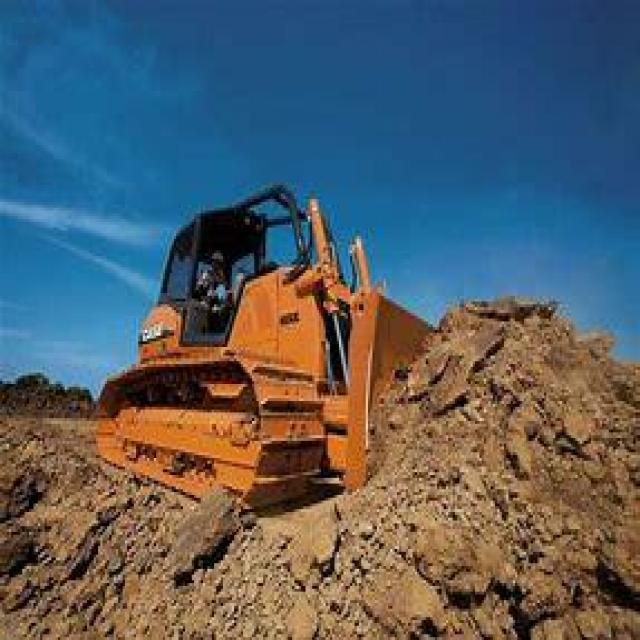Bulldozer: (76, 165, 520, 521)
